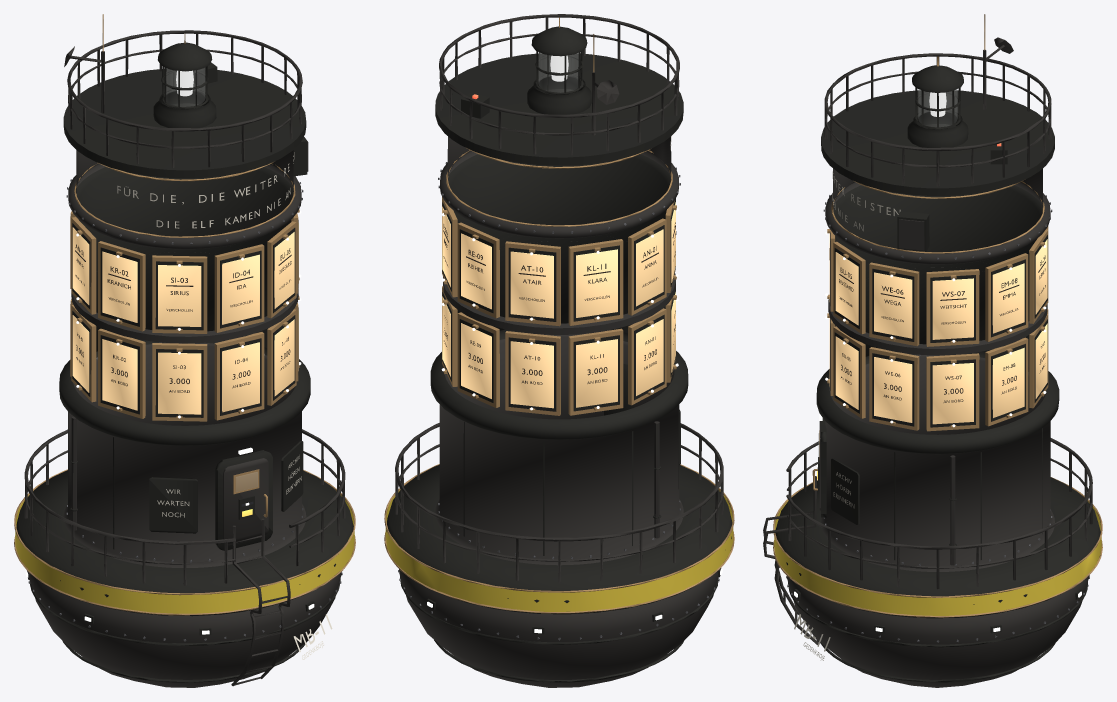
Rendered from Gedenkboje.3a4a42d5cf.glb.
3 renders of one model, left to right at view 1: azimuth 30°, elevation 25°; view 2: azimuth 150°, elevation 25°; view 3: azimuth 270°, elevation 25°, orthographic. The views are drawn at different scales.
Parts seen in each view (by area): view 1: Gedenkboje_lack, Gedenkboje_glow_Tafel hinterleuchtet, Gedenkboje_metall, Gedenkboje_warn, Gedenkboje_schrift, Gedenkboje_glas; view 2: Gedenkboje_lack, Gedenkboje_glow_Tafel hinterleuchtet, Gedenkboje_metall, Gedenkboje_warn, Gedenkboje_schrift, Gedenkboje_glas; view 3: Gedenkboje_lack, Gedenkboje_glow_Tafel hinterleuchtet, Gedenkboje_metall, Gedenkboje_warn, Gedenkboje_schrift, Gedenkboje_glas.
Part boxes in pixels (x1=…): Gedenkboje_lack: x1=16, y1=30, x2=353, y2=687; Gedenkboje_glow_Tafel hinterleuchtet: x1=72, y1=223, x2=298, y2=414; Gedenkboje_metall: x1=14, y1=14, x2=355, y2=641; Gedenkboje_warn: x1=15, y1=491, x2=354, y2=613; Gedenkboje_schrift: x1=75, y1=152, x2=332, y2=659; Gedenkboje_glas: x1=166, y1=68, x2=257, y2=491; Gedenkboje_lack: x1=386, y1=14, x2=732, y2=687; Gedenkboje_glow_Tafel hinterleuchtet: x1=442, y1=202, x2=675, y2=408; Gedenkboje_metall: x1=384, y1=17, x2=734, y2=640; Gedenkboje_warn: x1=385, y1=490, x2=733, y2=611; Gedenkboje_schrift: x1=443, y1=136, x2=676, y2=384; Gedenkboje_glas: x1=539, y1=52, x2=578, y2=92; Gedenkboje_lack: x1=763, y1=37, x2=1100, y2=687; Gedenkboje_glow_Tafel hinterleuchtet: x1=829, y1=233, x2=1047, y2=424; Gedenkboje_metall: x1=773, y1=14, x2=1102, y2=642; Gedenkboje_warn: x1=774, y1=500, x2=1101, y2=615; Gedenkboje_schrift: x1=794, y1=171, x2=1045, y2=660; Gedenkboje_glas: x1=818, y1=89, x2=957, y2=456.
Size of the model in its own units: 4.57 by 9.67 by 4.7.
